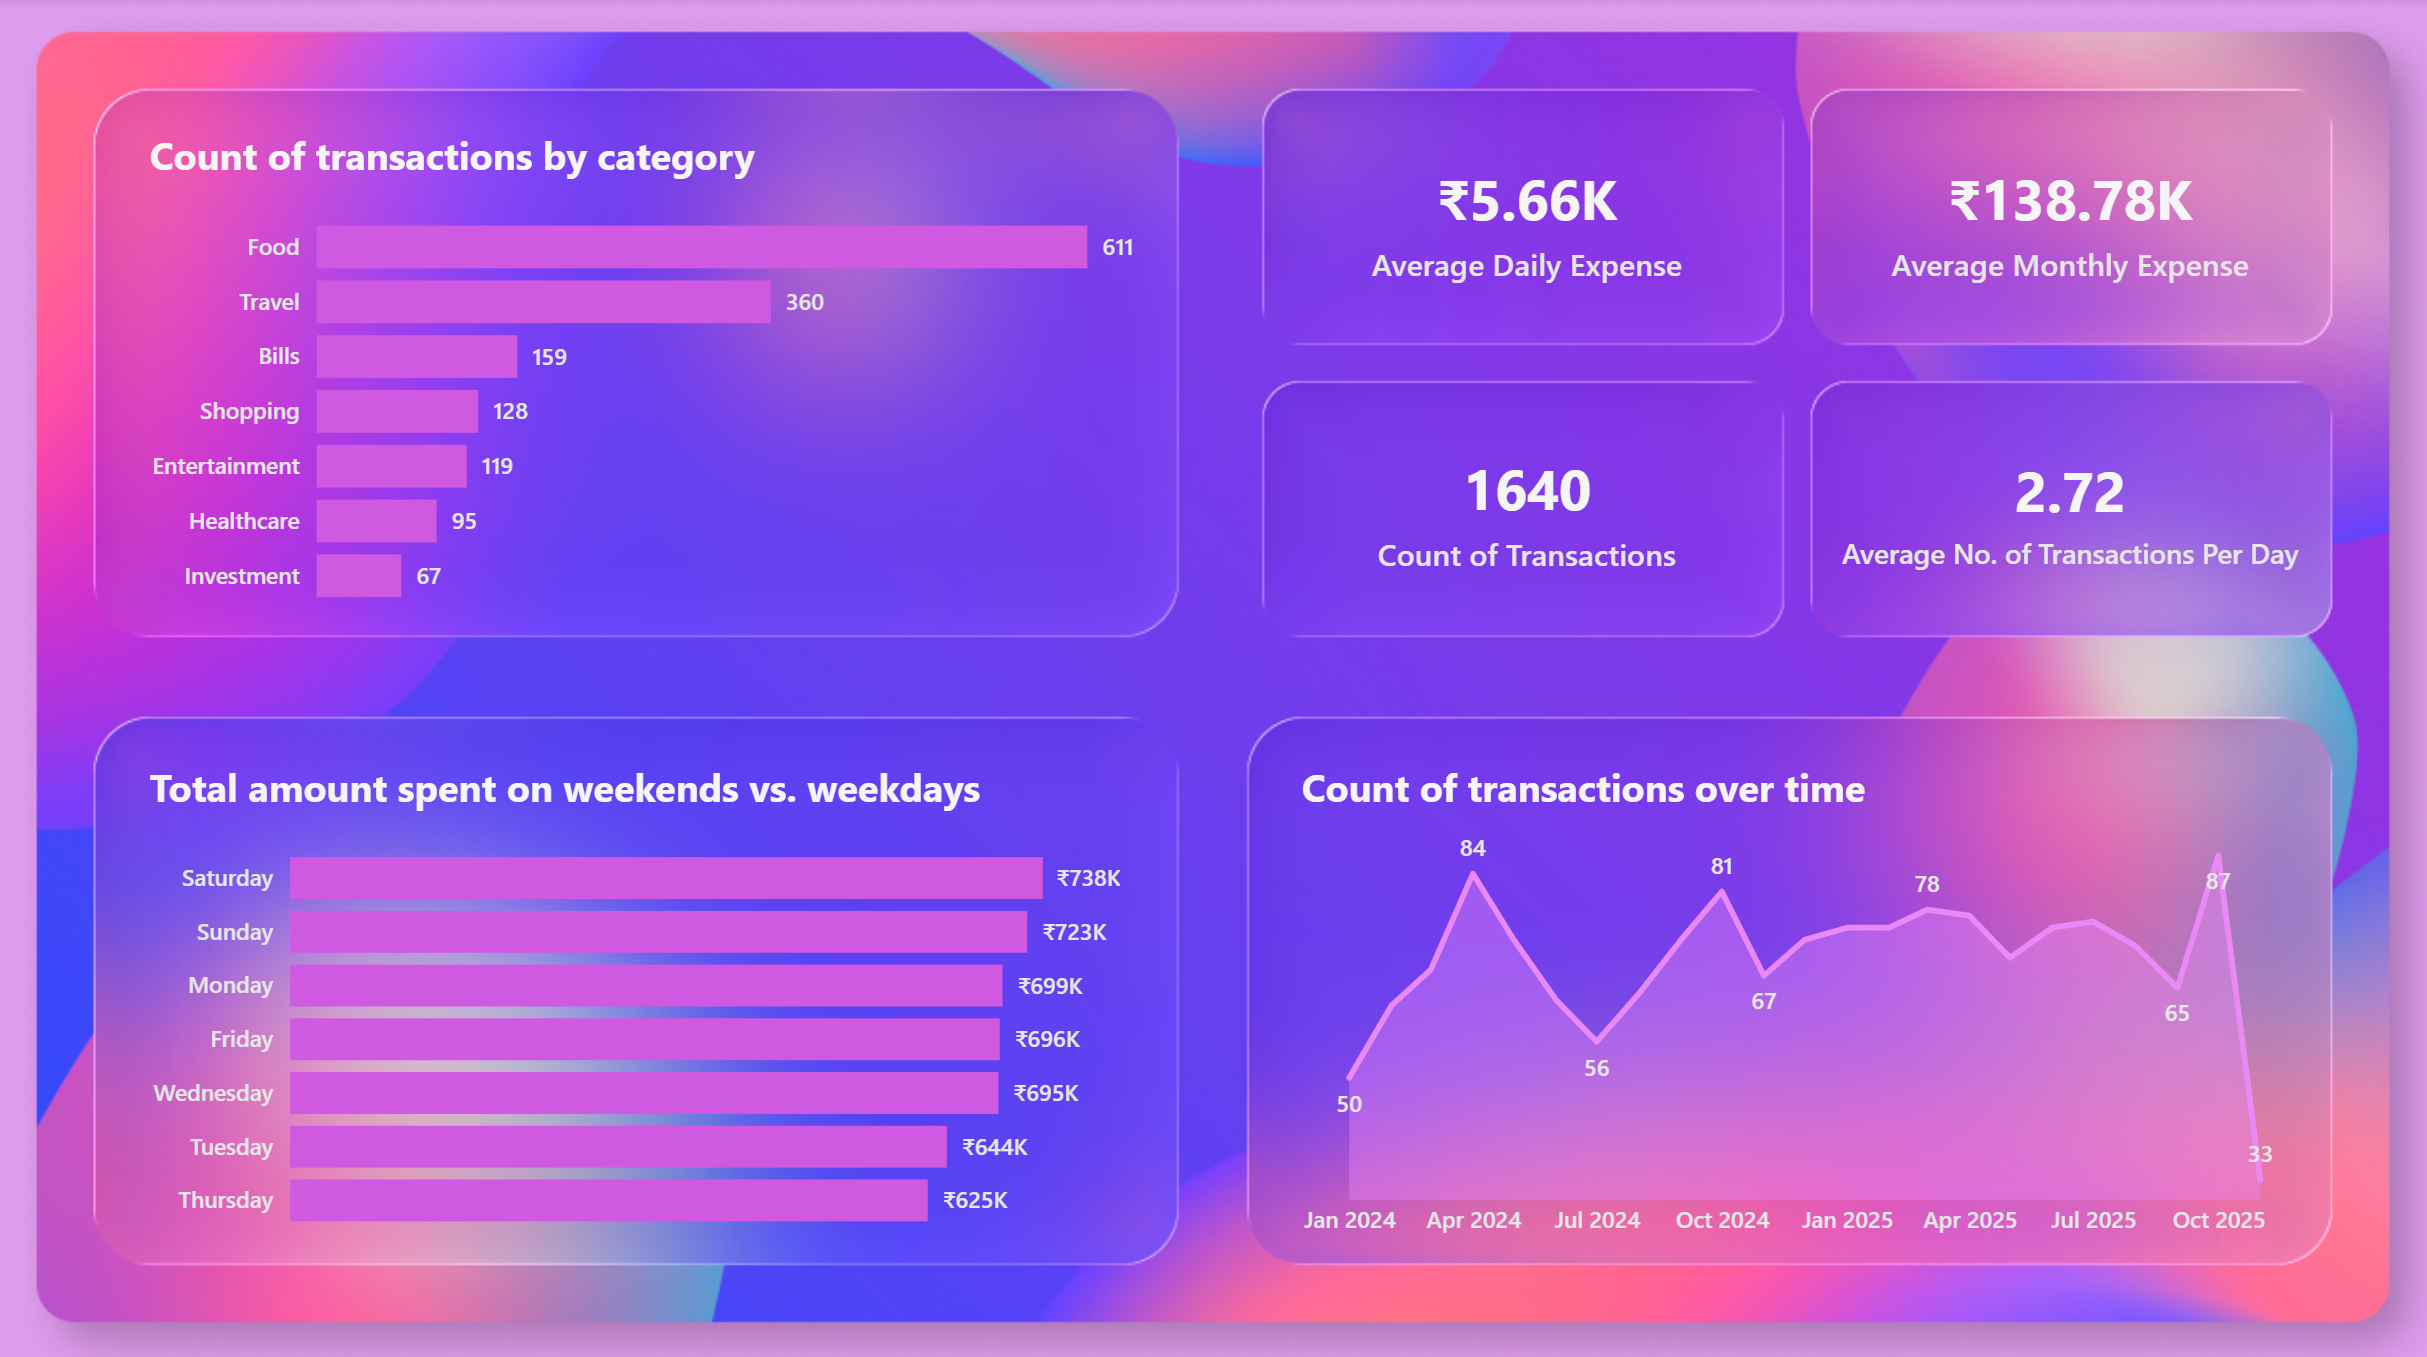

This screenshot's page, from the dashboard's own definition file:
{"tool":"powerbi","page":{"name":"Page 1","canvas":[1280,720],"ordinal":0},"visuals":[{"type":"barChart","title":"Count of transactions by category","fields":{"Category":["transactions.category"],"Y":["CountNonNull(transactions.category)"]},"box":[67.6,57.4,544.4,283],"z":0},{"type":"card","fields":{"Values":["CountNonNull(transactions.transaction_id)"]},"box":[674.4,198.9,261.4,141.5],"z":1000},{"type":"barChart","title":"Total amount spent on weekends vs. weekdays","fields":{"Category":["Date.Weekday"],"Y":["Sum(transactions.amount)"]},"box":[67.1,390.1,535.7,278.7],"z":2000},{"type":"card","fields":{"Values":["transactions.Average No. of Transactions Per Day"]},"box":[953.6,198.9,275.4,141.5],"z":3000},{"type":"lineChart","title":"Count of transactions over time","fields":{"Category":["Date.Date.Variation.Date Hierarchy.Year","Date.Date.Variation.Date Hierarchy.Quarter","Date.Date.Variation.Date Hierarchy.Month","Date.Date.Variation.Date Hierarchy.Day"],"Y":["CountNonNull(transactions.transaction_id)"]},"box":[674.5,389.6,554.3,279.4],"z":4000},{"type":"card","fields":{"Values":["transactions.Monthly Average"]},"box":[953.6,47.2,275.4,139],"z":5000},{"type":"card","fields":{"Values":["transactions.Daily Average Expense"]},"box":[674.4,47.2,261.4,139],"z":6000}]}

Visuals, with their boxes in screenshot pixels (x1, y1, x2, y2), scaled from the page's 1280x720 canvas onto the 2427x1357 screenshot:
"Count of transactions by category" barChart: x1=128 y1=108 x2=1160 y2=642
card - CountNonNull(transactions.transaction_id): x1=1279 y1=375 x2=1774 y2=642
"Total amount spent on weekends vs. weekdays" barChart: x1=127 y1=735 x2=1143 y2=1261
card - transactions.Average No. of Transactions Per Day: x1=1808 y1=375 x2=2330 y2=642
"Count of transactions over time" lineChart: x1=1279 y1=734 x2=2330 y2=1261
card - transactions.Monthly Average: x1=1808 y1=89 x2=2330 y2=351
card - transactions.Daily Average Expense: x1=1279 y1=89 x2=1774 y2=351
